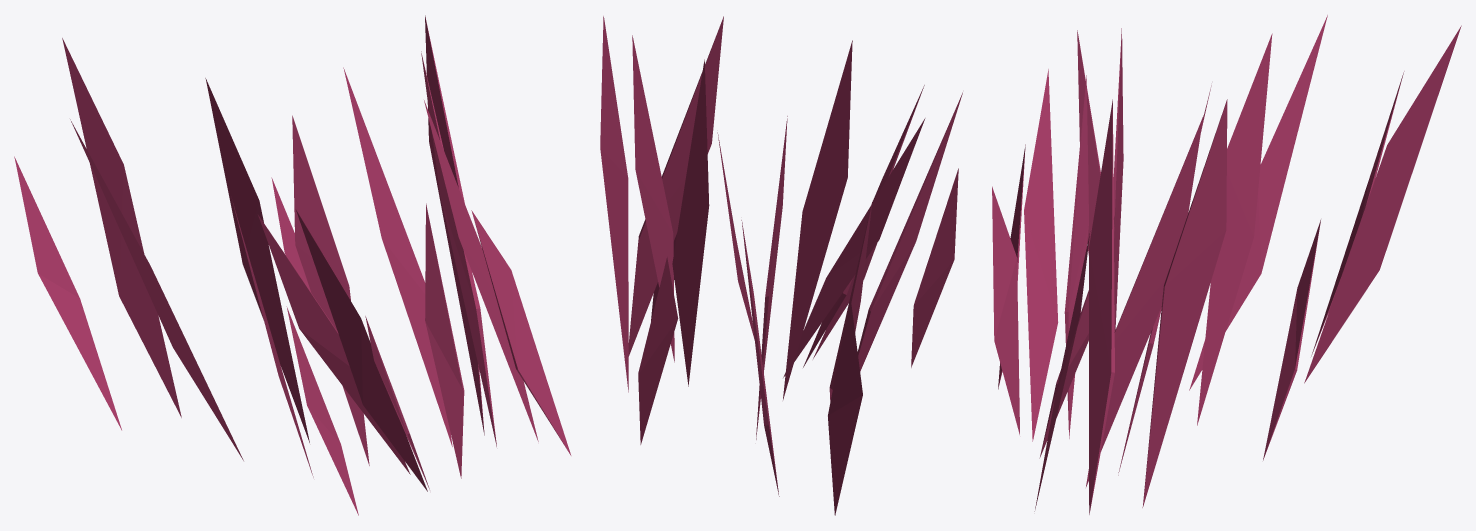
The model's file is pink_grass.fbx.
3 views of the same model, side by side, from view 1: azimuth 30°, elevation 25°; view 2: azimuth 150°, elevation 25°; view 3: azimuth 270°, elevation 25° (orthographic). The views are drawn at different scales.
Parts seen in each view (by area): view 1: pink_grass; view 2: pink_grass; view 3: pink_grass.
Part boxes in pixels (x1,y1,x2,y2): pink_grass: (14,15,571,515); pink_grass: (600,16,962,515); pink_grass: (992,15,1461,514).
Size of the model in its own units: 46.34 by 46.95 by 49.81.
